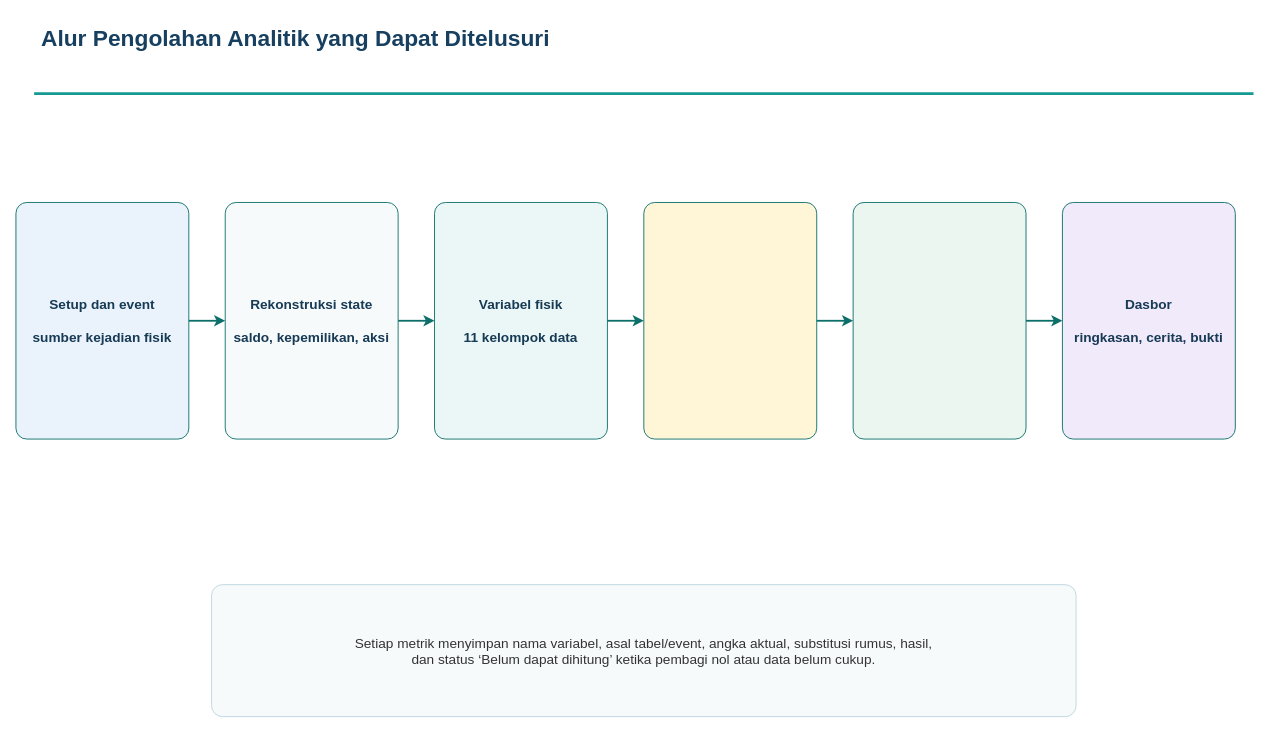
Some shapes in this 1270 by 733 pixel diagram are drawn without their labels. Each missing label, with the centre of its shape:
"Metrik turunan 13 indikator perilaku" goes at point 730,320.
"Snapshot nilai + provenance + waktu" goes at point 939,320.
